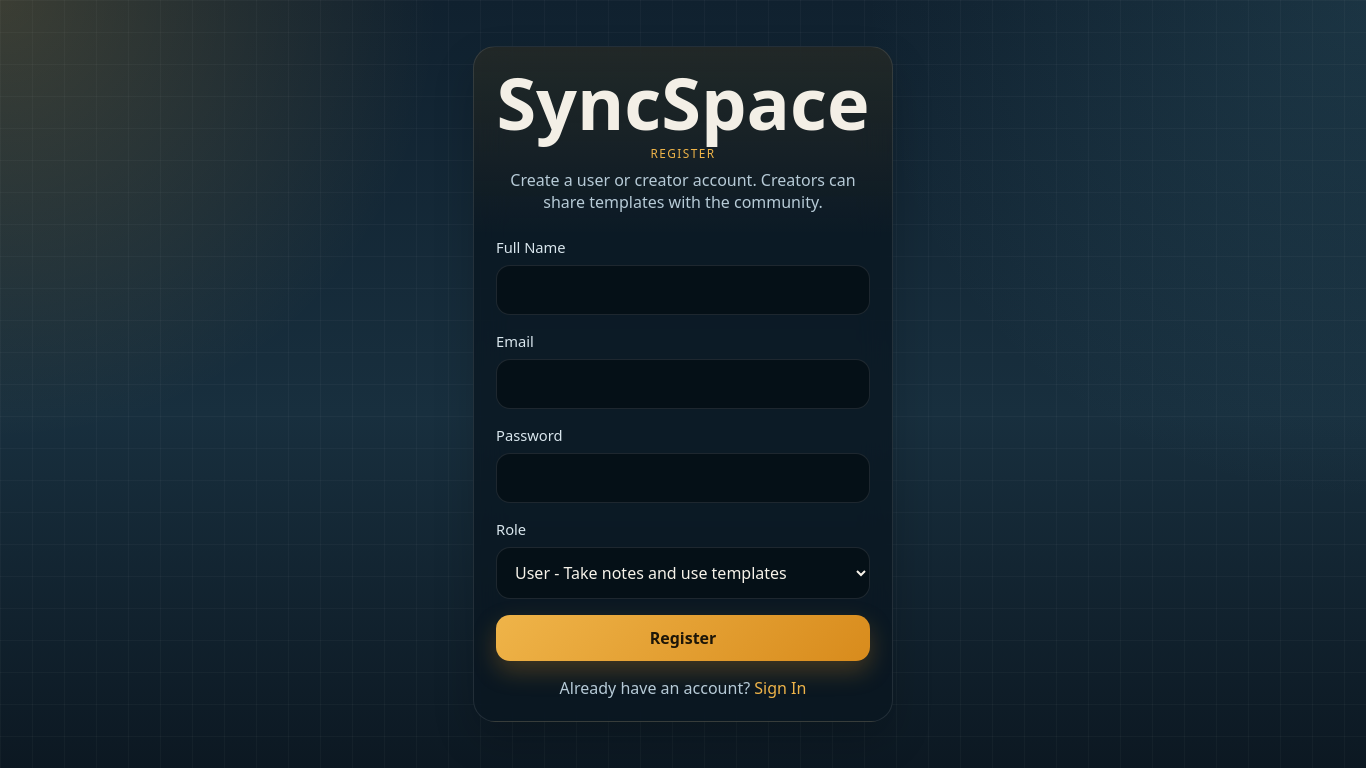
it: Authentication Pages › RegisterPage › displays error message on registration failure
Step 1. Type "Existing User" into the field below "Full Name" → (683, 290), box [496, 265, 870, 315]
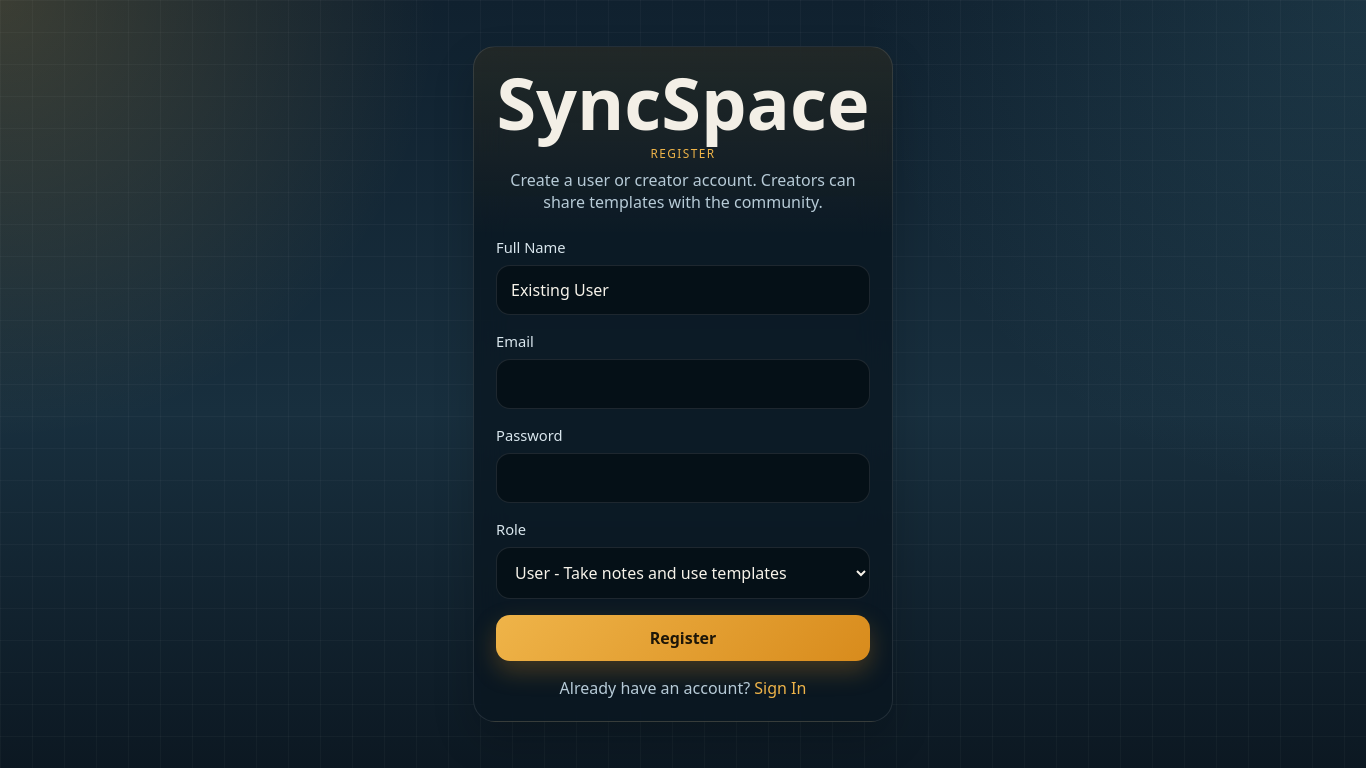
Step 2. Type "existing@example.com" into the field below "Email" → (683, 384), box [496, 359, 870, 409]
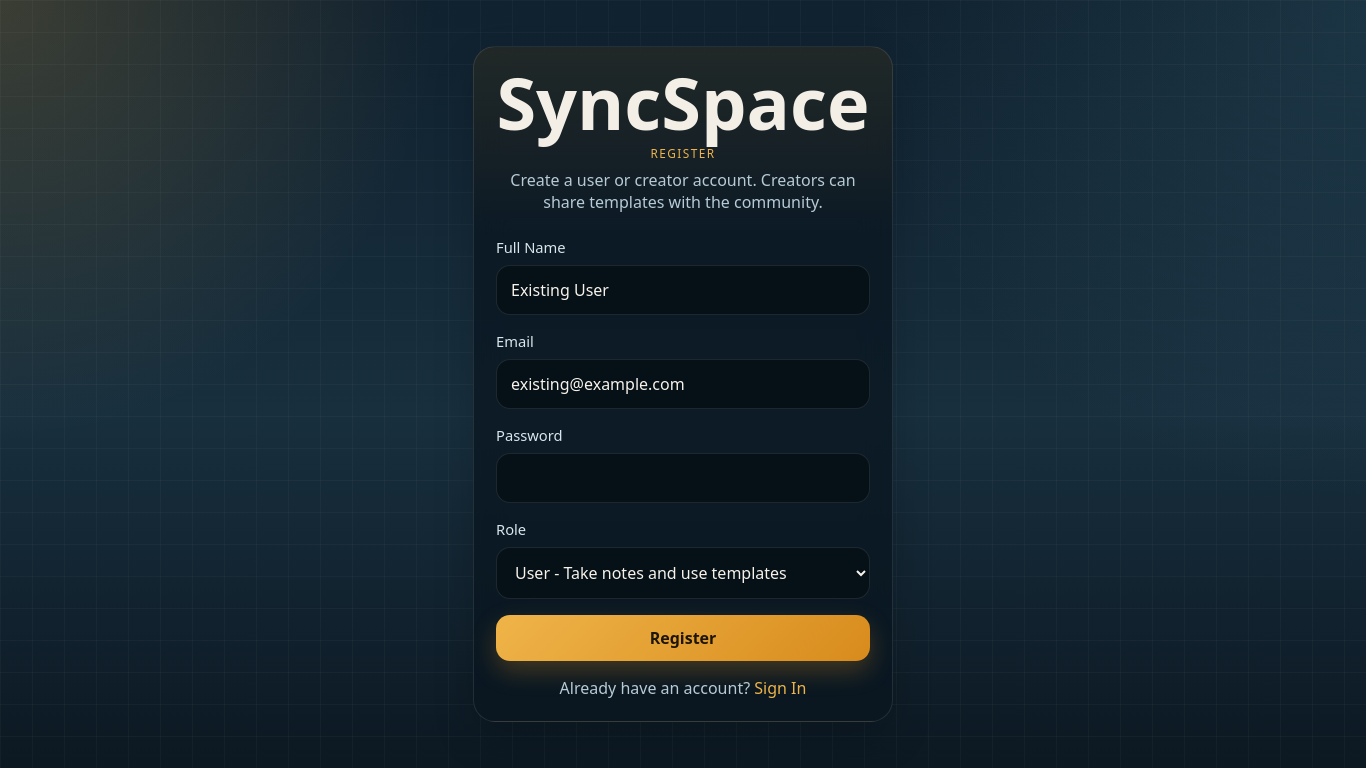
Step 3. Type "pass12345" into the password field → (683, 478), box [496, 453, 870, 503]
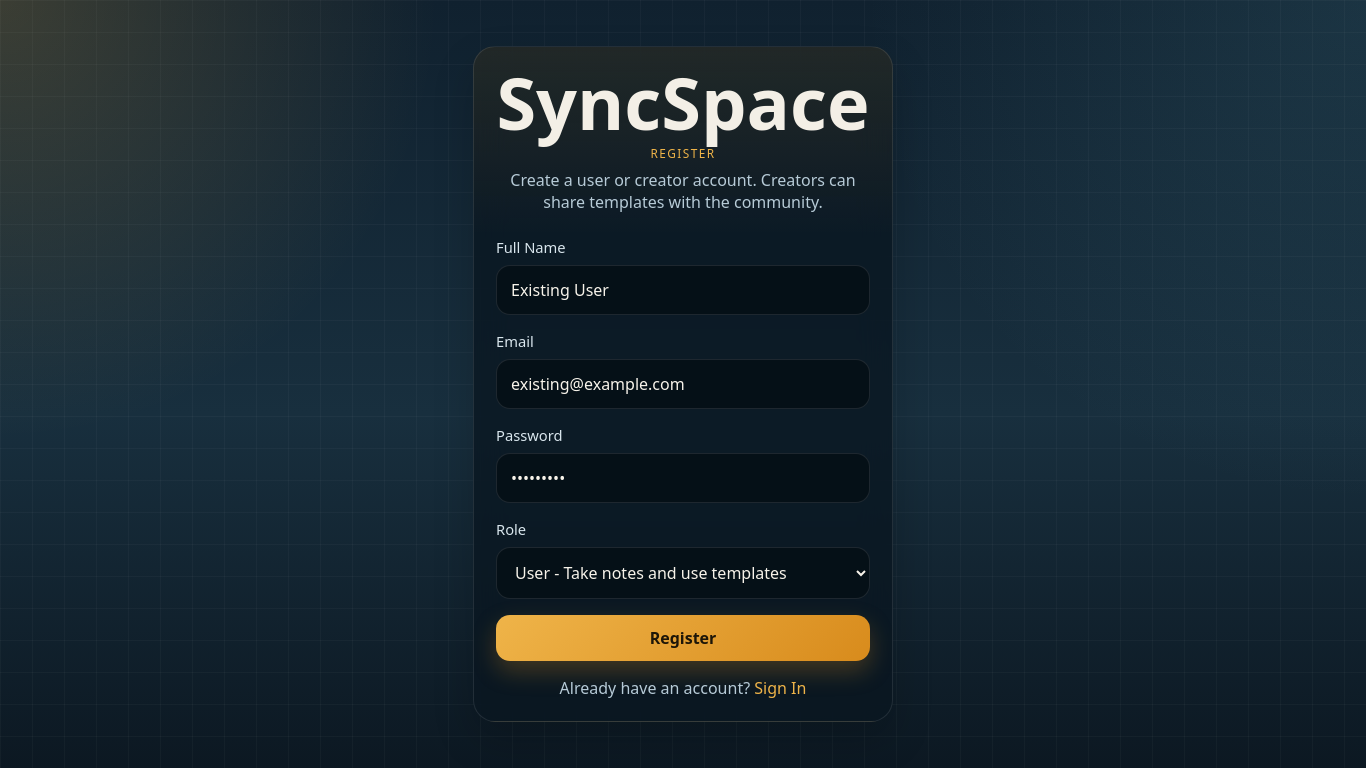
Step 4. Click the button "Register" → (683, 638), box [496, 615, 870, 661]
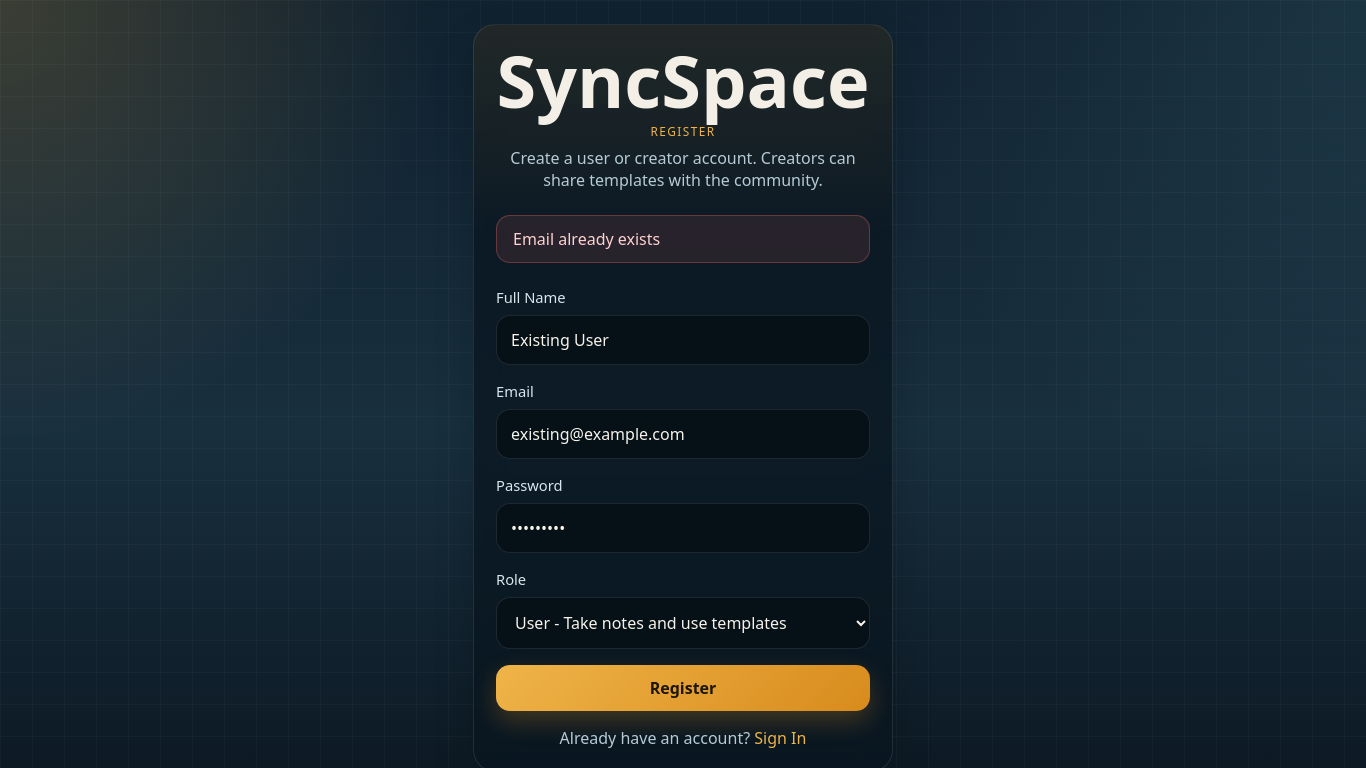
expect the text "Email already exists" is shown: met, box [496, 215, 870, 263]
